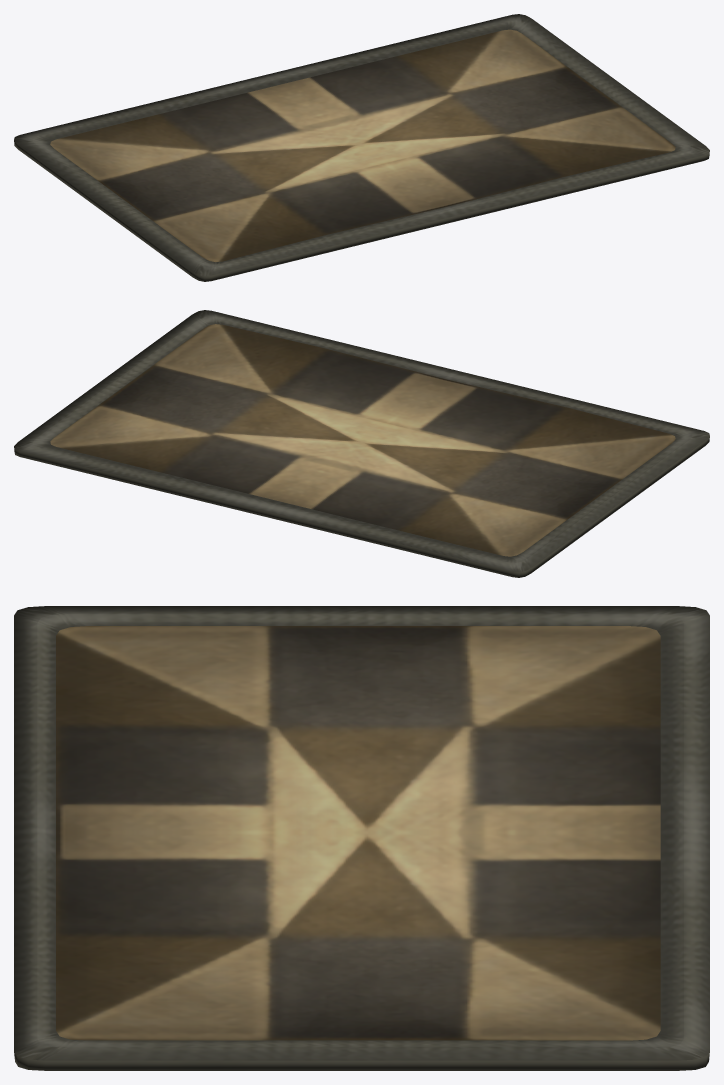
Rendered from ChicCarpet_HD.fbx.
3 views of the same model, one above another, from view 1: azimuth 30°, elevation 25°; view 2: azimuth 150°, elevation 25°; view 3: azimuth 270°, elevation 25° (orthographic). The views are drawn at different scales.
Visible parts, largest first — view 1: ChicCarpet; view 2: ChicCarpet; view 3: ChicCarpet.
Boxes of the visible parts, x1,y1,x2,y2 form: ChicCarpet: (14, 14, 709, 281); ChicCarpet: (14, 310, 709, 577); ChicCarpet: (14, 606, 709, 1070).
Bounding box in the file's own units: 2.72 × 0.0364 × 1.76.
